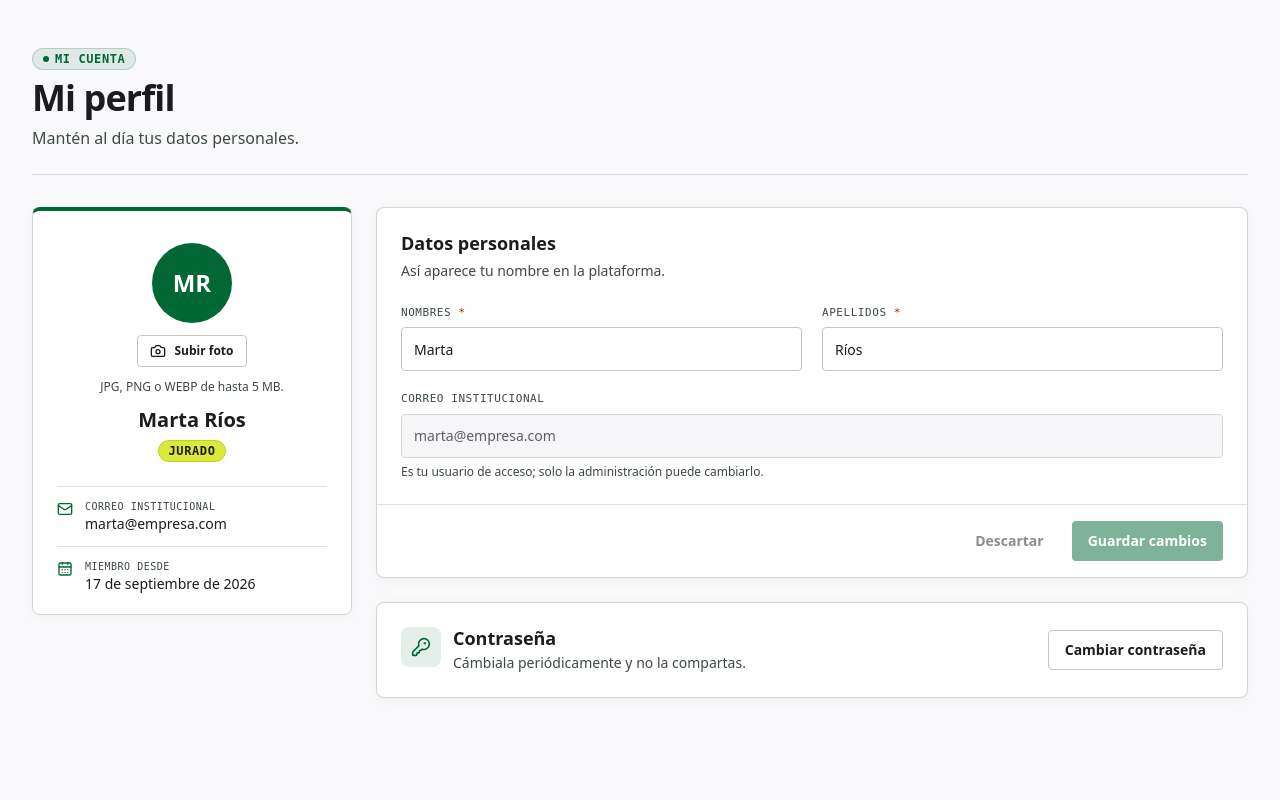
El perfil se vuelve a consultar cada minuto › si una de esas consultas falla, el formulario a medio llenar sigue ahí
Type " Lucía" into the field labelled "Nombres *" at (602, 349), box [401,327,802,371]
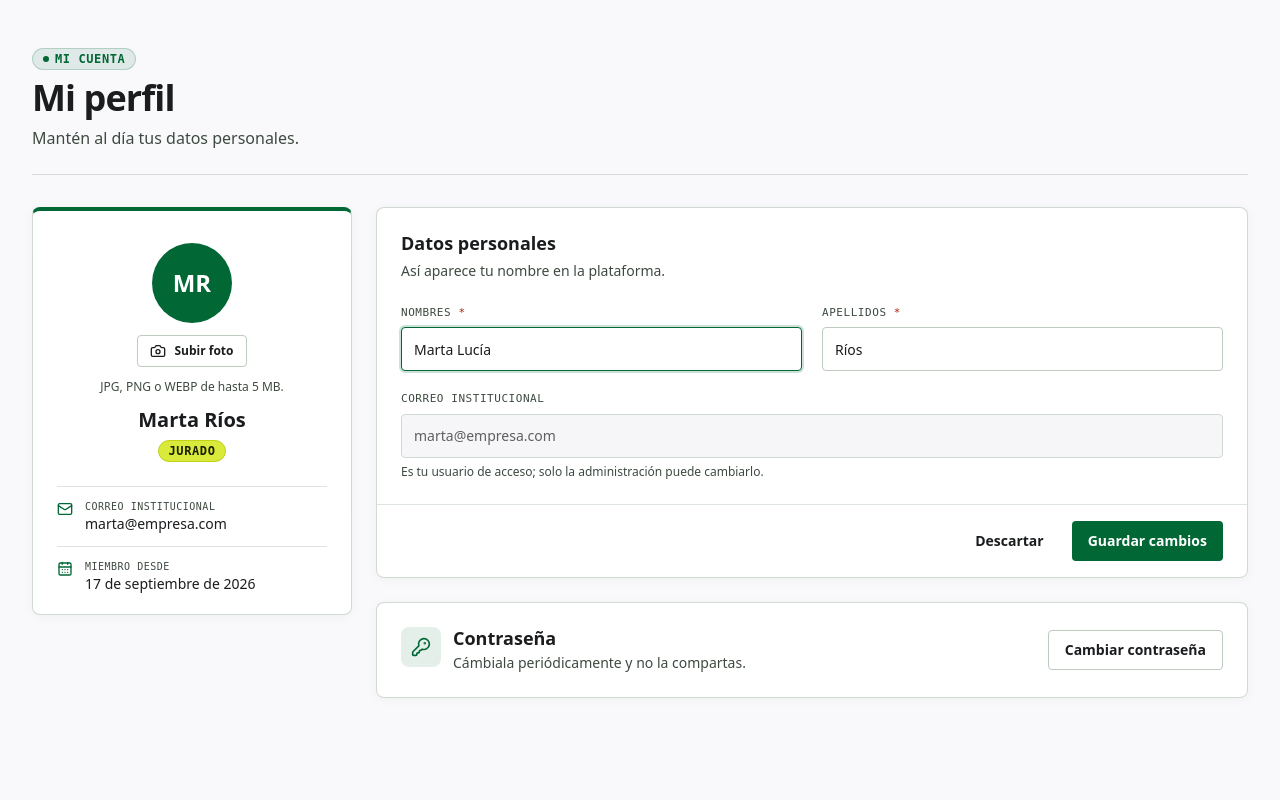
Expected: the field labelled "Nombres *" holds "Marta Lucía", [401,327,802,371]
